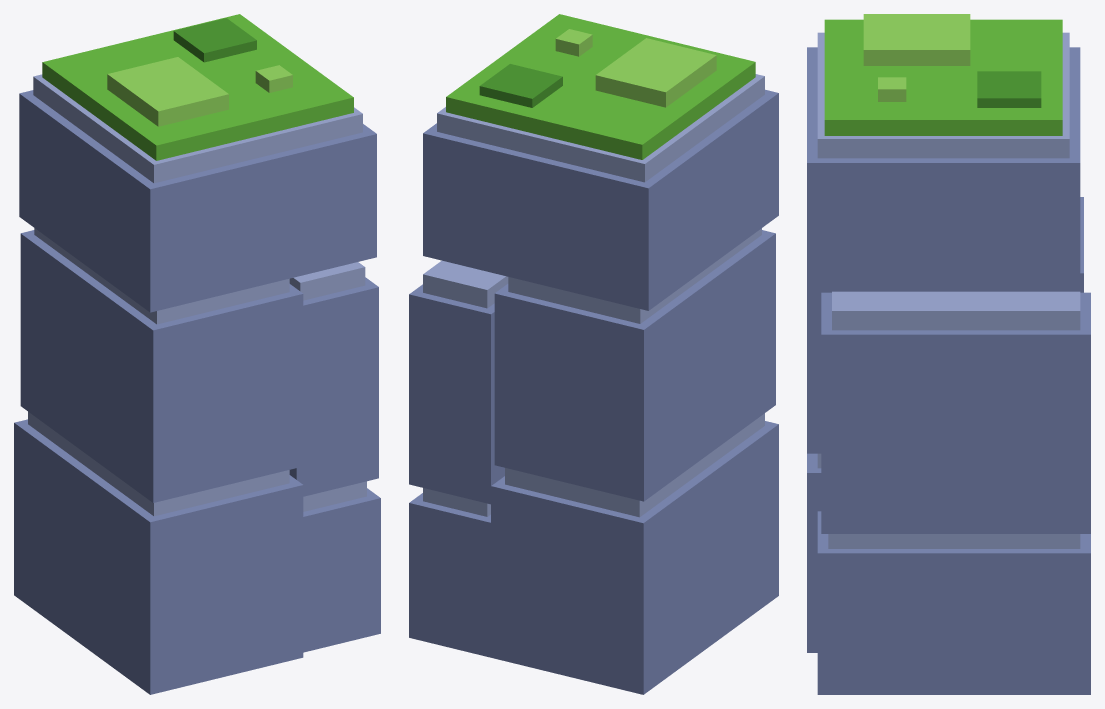
File: Windswept_CornerPillar.glb
3 renders of one model, left to right at view 1: azimuth 30°, elevation 25°; view 2: azimuth 150°, elevation 25°; view 3: azimuth 270°, elevation 25°, orthographic. The views are drawn at different scales.
Parts seen in each view (by area): view 1: Stone_1A, Stone_2A, Stone_3, Grass_Top, Stone_2B, Stone_1B, Stone_3_Top, Grass_Tuft_1, Stone_1A_Top, Stone_2A_Top, Grass_Tuft_2, Stone_2B_Top (+2 smaller); view 2: Stone_1A, Stone_2A, Stone_3, Grass_Top, Stone_2B, Stone_1B, Stone_3_Top, Grass_Tuft_1, Stone_1A_Top, Stone_2A_Top, Stone_2B_Top, Grass_Tuft_2 (+2 smaller); view 3: Stone_2B, Stone_1B, Stone_3, Grass_Top, Stone_2B_Top, Stone_3_Top, Grass_Tuft_1, Stone_1B_Top, Stone_2A, Grass_Tuft_2, Stone_1A, Grass_Tuft_3.
Boxes of the visible parts, left/top/right/bottom form: Stone_1A: left=14, top=419, right=303, bottom=694; Stone_2A: left=20, top=230, right=303, bottom=502; Stone_3: left=19, top=90, right=376, bottom=312; Grass_Top: left=42, top=14, right=353, bottom=160; Stone_2B: left=289, top=277, right=378, bottom=496; Stone_1B: left=303, top=488, right=380, bottom=652; Stone_3_Top: left=33, top=74, right=362, bottom=183; Grass_Tuft_1: left=107, top=57, right=228, bottom=126; Stone_1A_Top: left=28, top=412, right=289, bottom=516; Stone_2A_Top: left=34, top=228, right=289, bottom=324; Grass_Tuft_2: left=173, top=18, right=256, bottom=62; Stone_2B_Top: left=289, top=262, right=365, bottom=300; Stone_1A: left=491, top=421, right=778, bottom=694; Stone_2A: left=494, top=230, right=775, bottom=501; Stone_3: left=423, top=89, right=778, bottom=310; Grass_Top: left=446, top=14, right=755, bottom=159; Stone_2B: left=409, top=284, right=504, bottom=504; Stone_1B: left=409, top=493, right=490, bottom=657; Stone_3_Top: left=437, top=74, right=764, bottom=182; Grass_Tuft_1: left=595, top=38, right=716, bottom=107; Stone_1A_Top: left=505, top=413, right=764, bottom=517; Stone_2A_Top: left=508, top=228, right=761, bottom=323; Stone_2B_Top: left=423, top=260, right=508, bottom=308; Grass_Tuft_2: left=479, top=64, right=562, bottom=107; Stone_2B: left=821, top=292, right=1090, bottom=533; Stone_1B: left=817, top=511, right=1090, bottom=694; Stone_3: left=807, top=47, right=1080, bottom=291; Grass_Top: left=824, top=19, right=1062, bottom=135; Stone_2B_Top: left=832, top=291, right=1080, bottom=330; Stone_3_Top: left=817, top=32, right=1069, bottom=158; Grass_Tuft_1: left=863, top=14, right=970, bottom=65; Stone_1B_Top: left=828, top=534, right=1080, bottom=548; Stone_2A: left=807, top=197, right=1083, bottom=453; Grass_Tuft_2: left=977, top=71, right=1041, bottom=107; Stone_1A: left=807, top=453, right=821, bottom=652; Grass_Tuft_3: left=878, top=77, right=906, bottom=101.
Size of the model in its own units: 0.8 by 1.8 by 0.8.
